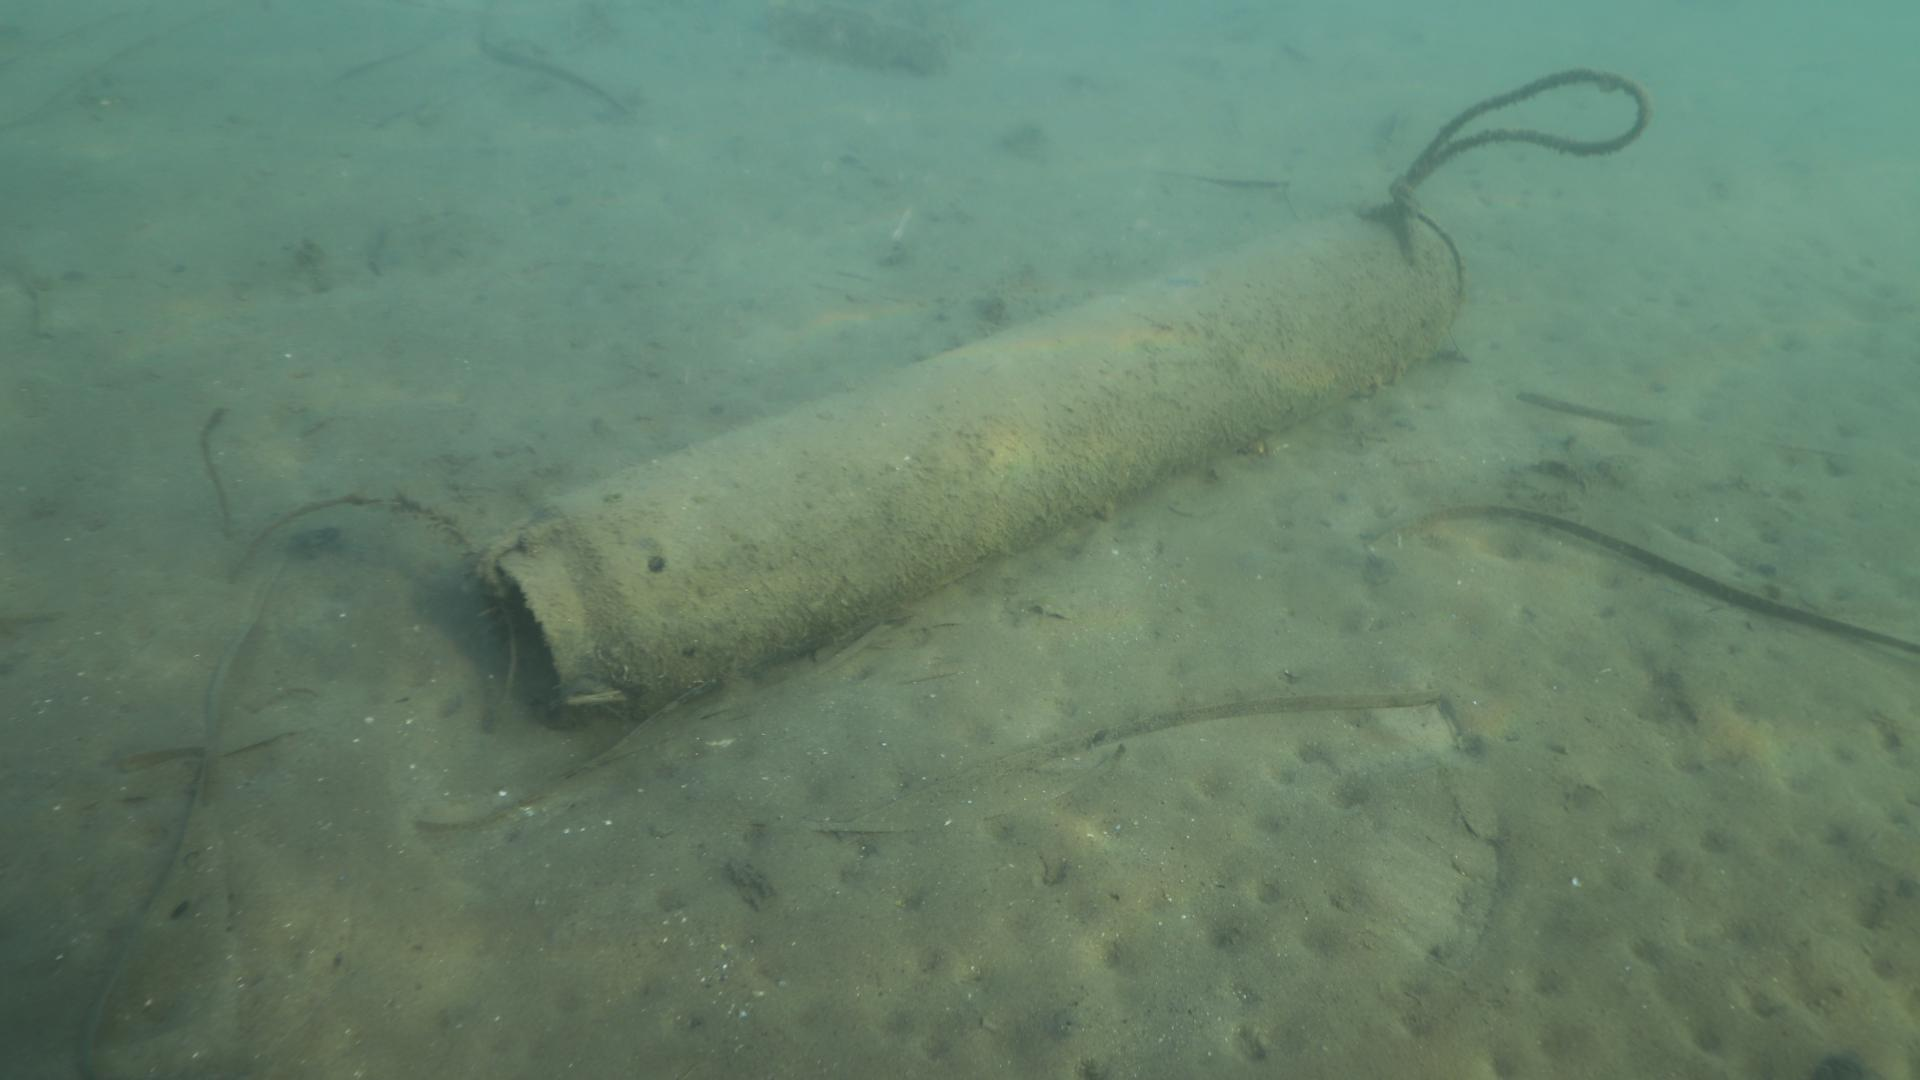bundle of ropes: (1387, 65, 1652, 208)
eel fish trap: (480, 203, 1462, 740)
